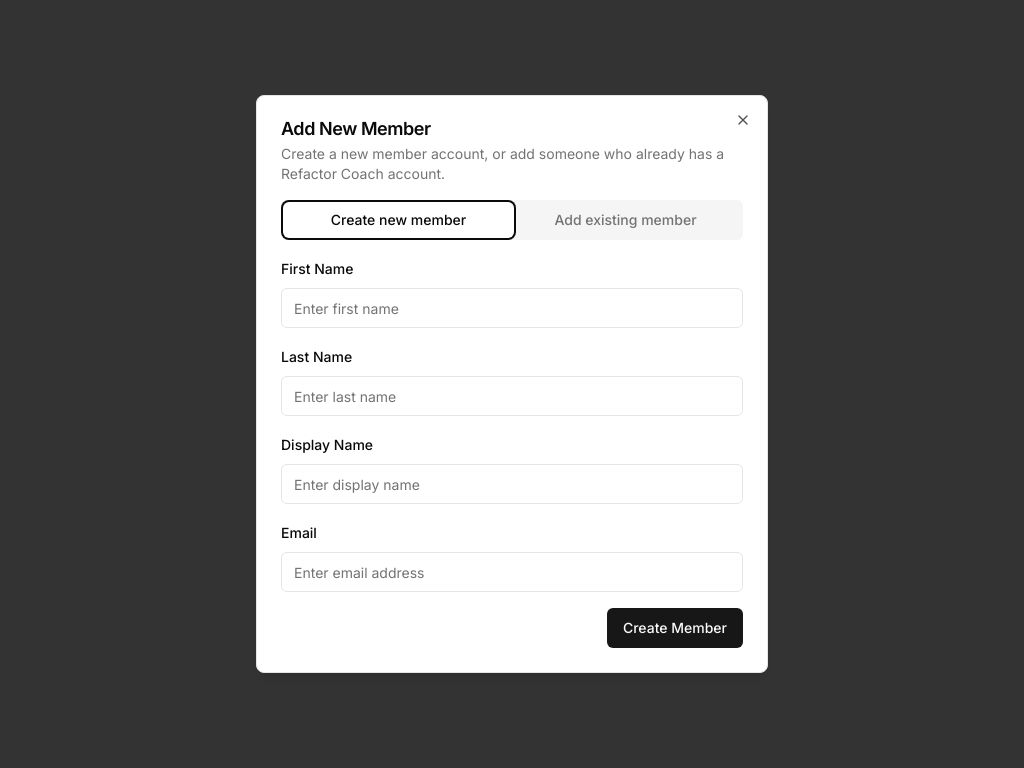
Scenario: AddMemberDialog – existing member lookup › blames the searcher, not the address, when the lookup is throttled
Click the tab "Add existing member" at x=626, y=220, box left=512, top=204, right=739, bottom=236
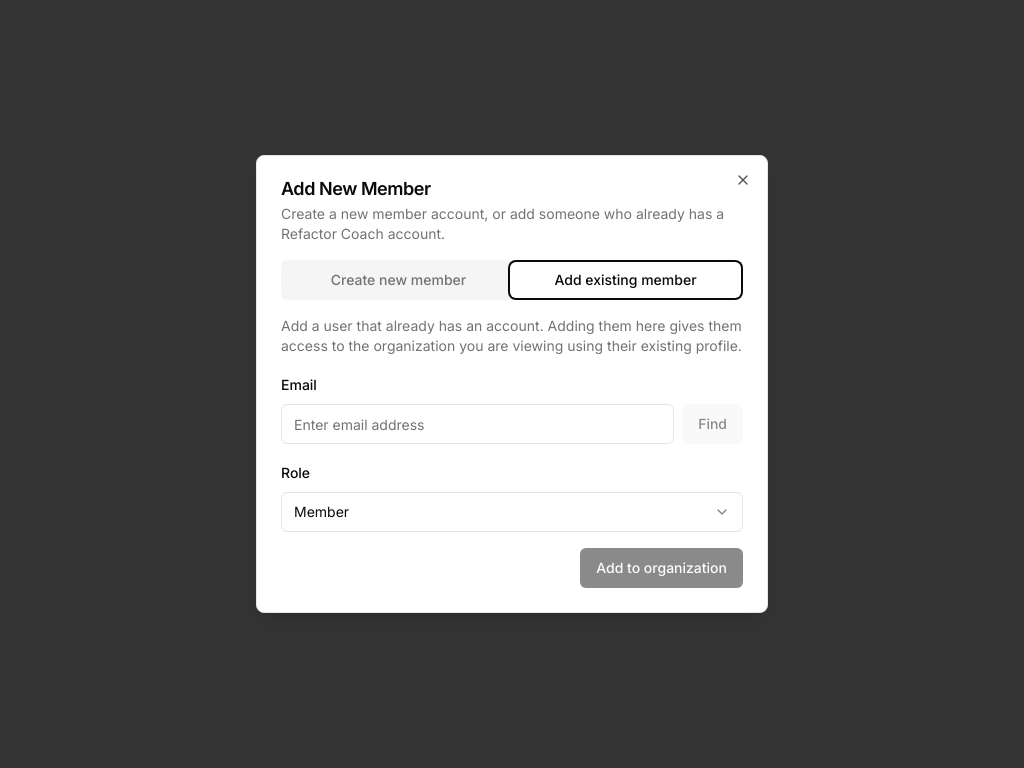
Type "ada@example.com" into the field labelled "Email" at x=478, y=424, box left=281, top=404, right=674, bottom=444
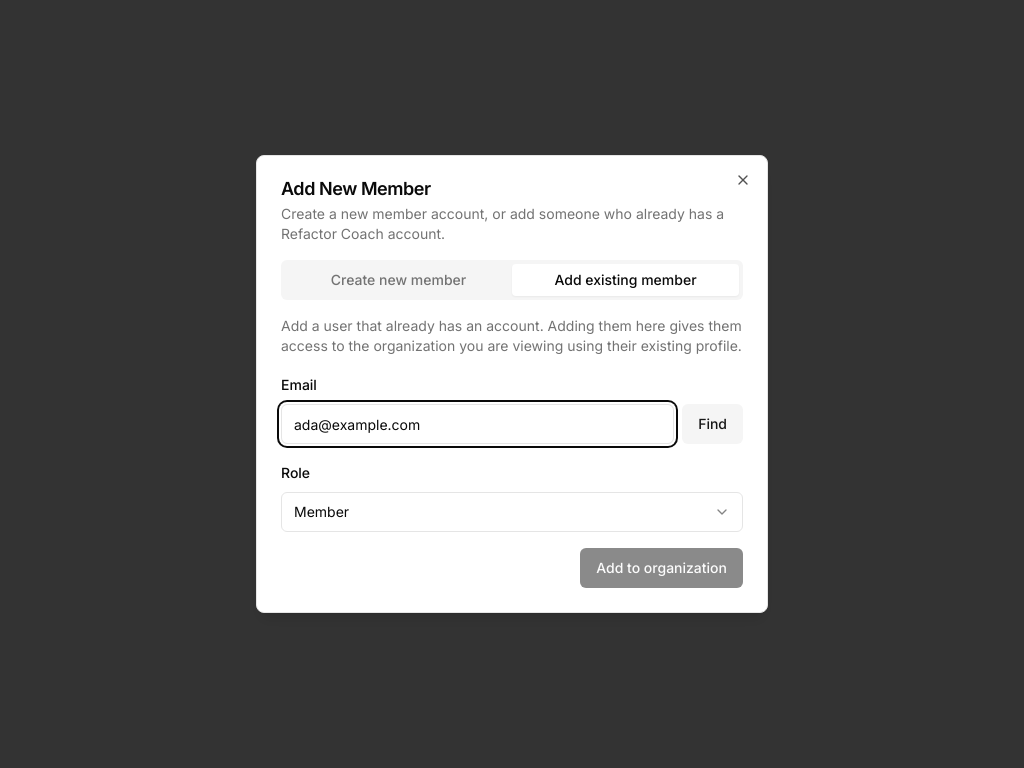
Click the button "Find" at x=713, y=424, box left=682, top=404, right=743, bottom=444
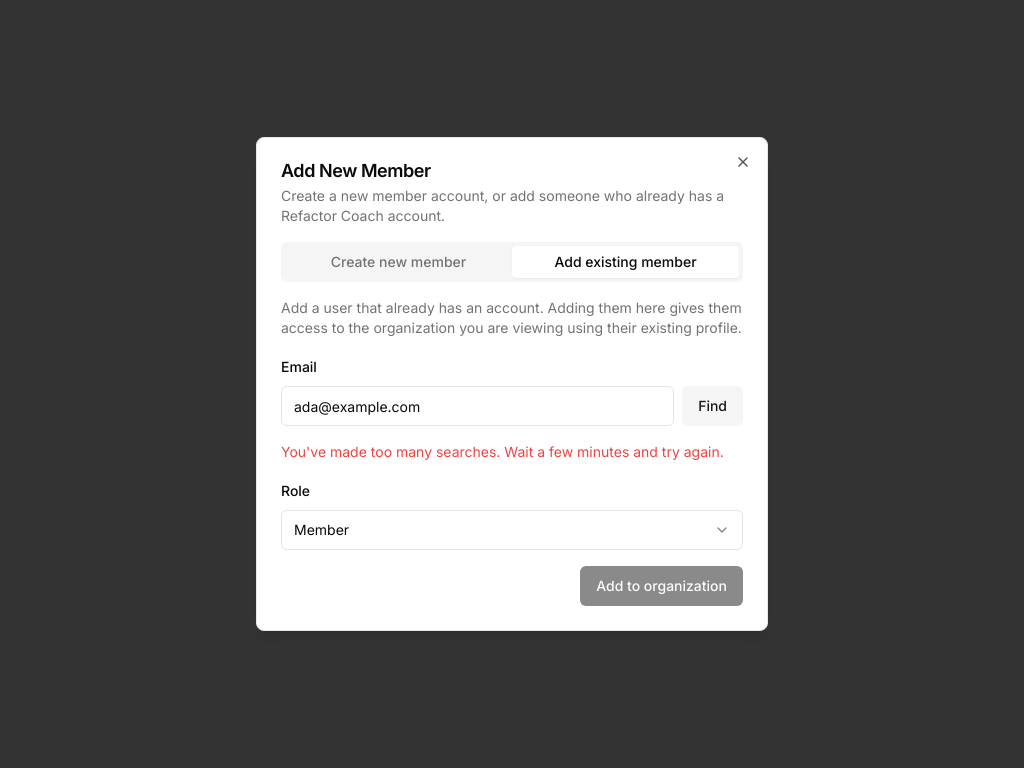
expect the button "Add to organization" is disabled: met, box left=580, top=566, right=743, bottom=606
expect the text "You've made too many searches. Wait a few minutes and try again." is shown: met, box left=281, top=442, right=743, bottom=462
